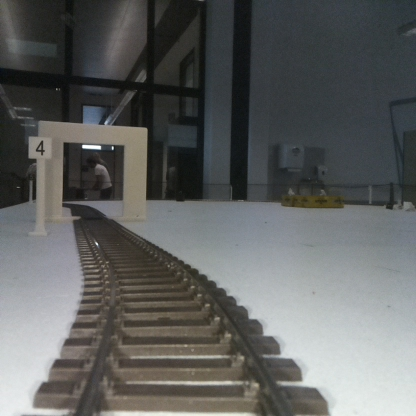white-info-4: (29, 136, 51, 234)
